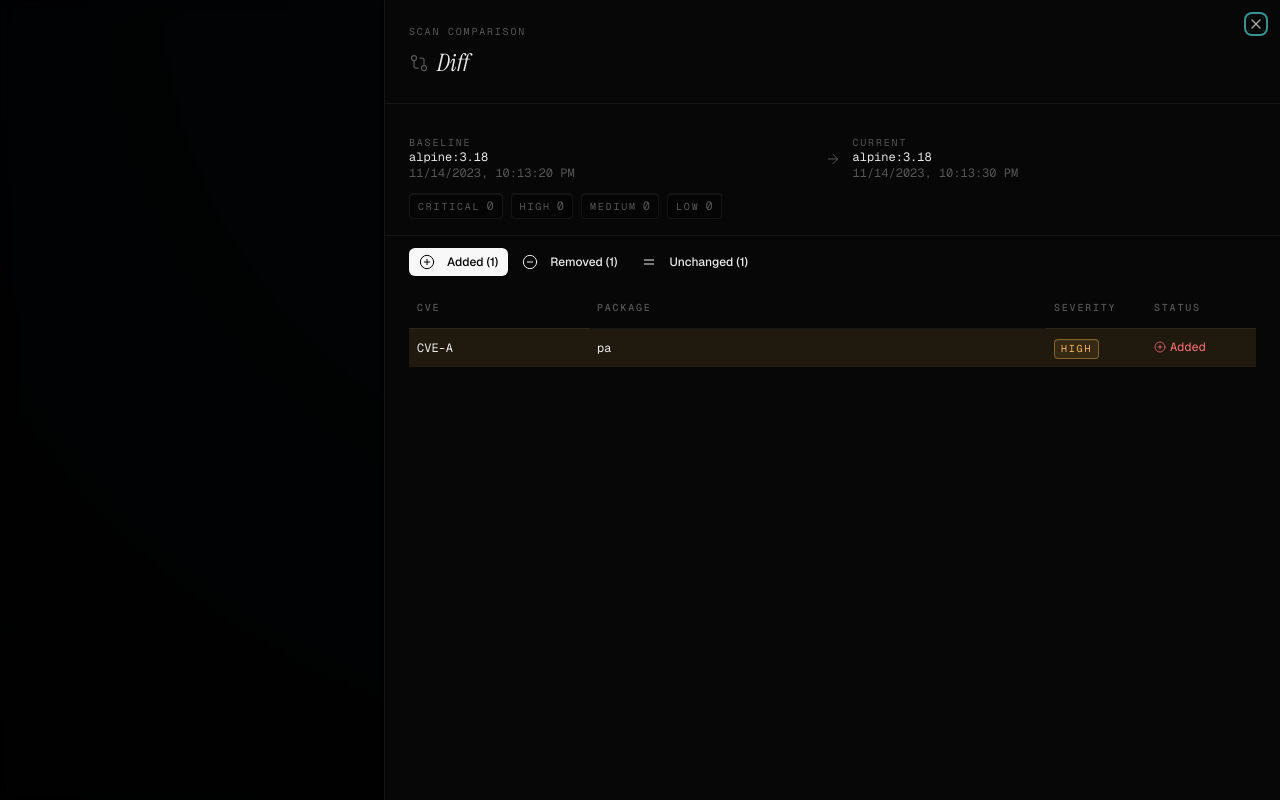
Test: ScanComparisonSheet › switches the visible rows when a filter pill is clicked
Expected: the text "CVE-A" is shown, [417,340,453,356]
Expected: the text "CVE-R" is not shown
Click the button "Removed (1)": click(570, 262) [512,248,628,276]
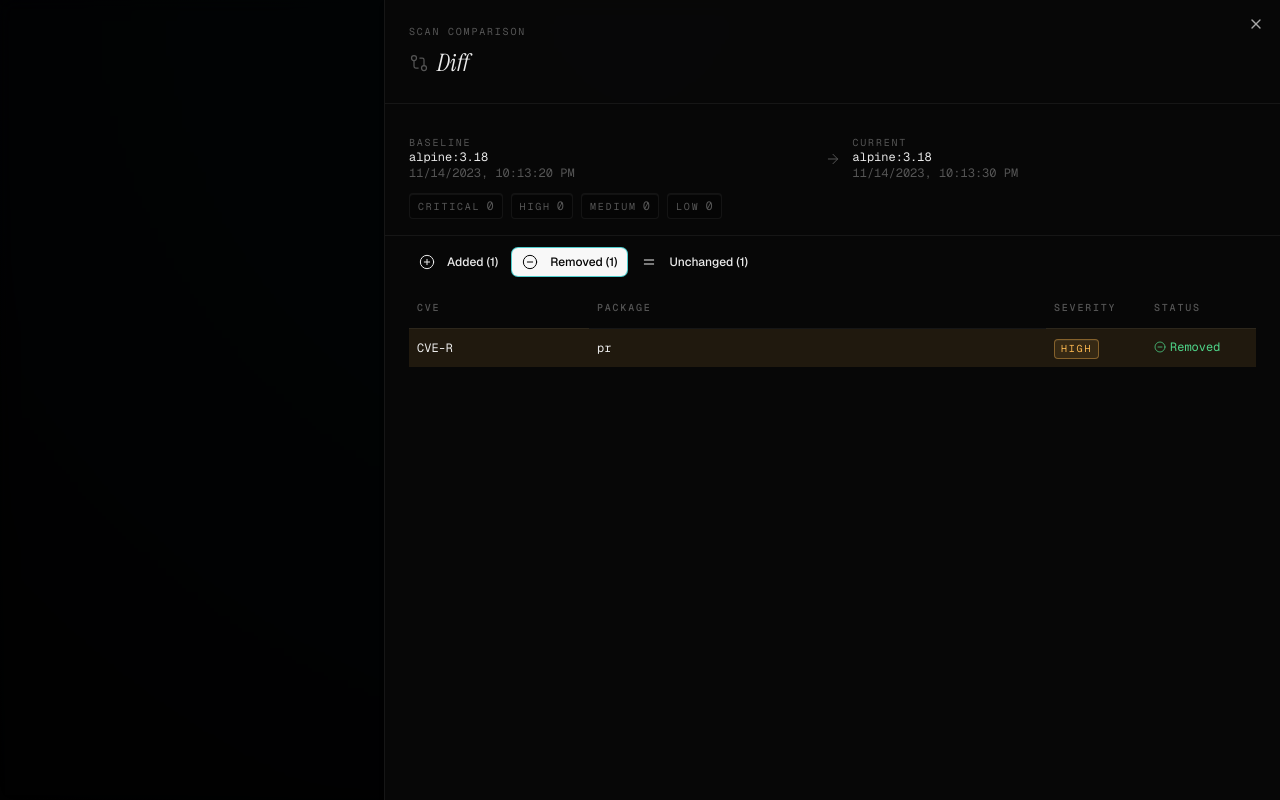
Now the text "CVE-R" is shown, box [417,340,453,356]
Now the text "CVE-A" is gone
Click the button "Unchanged (1)": click(695, 262) [632,248,758,276]
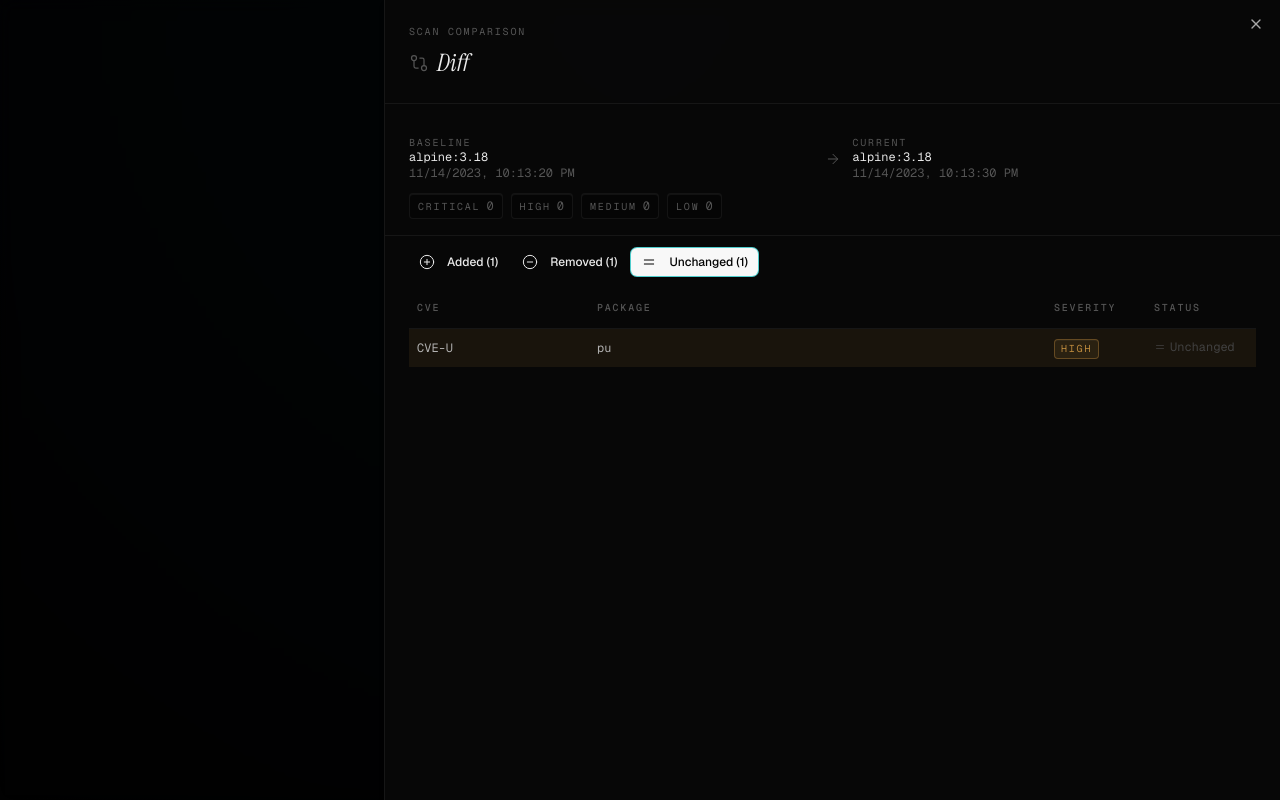
Now the text "CVE-U" is shown, box [417,340,453,356]
